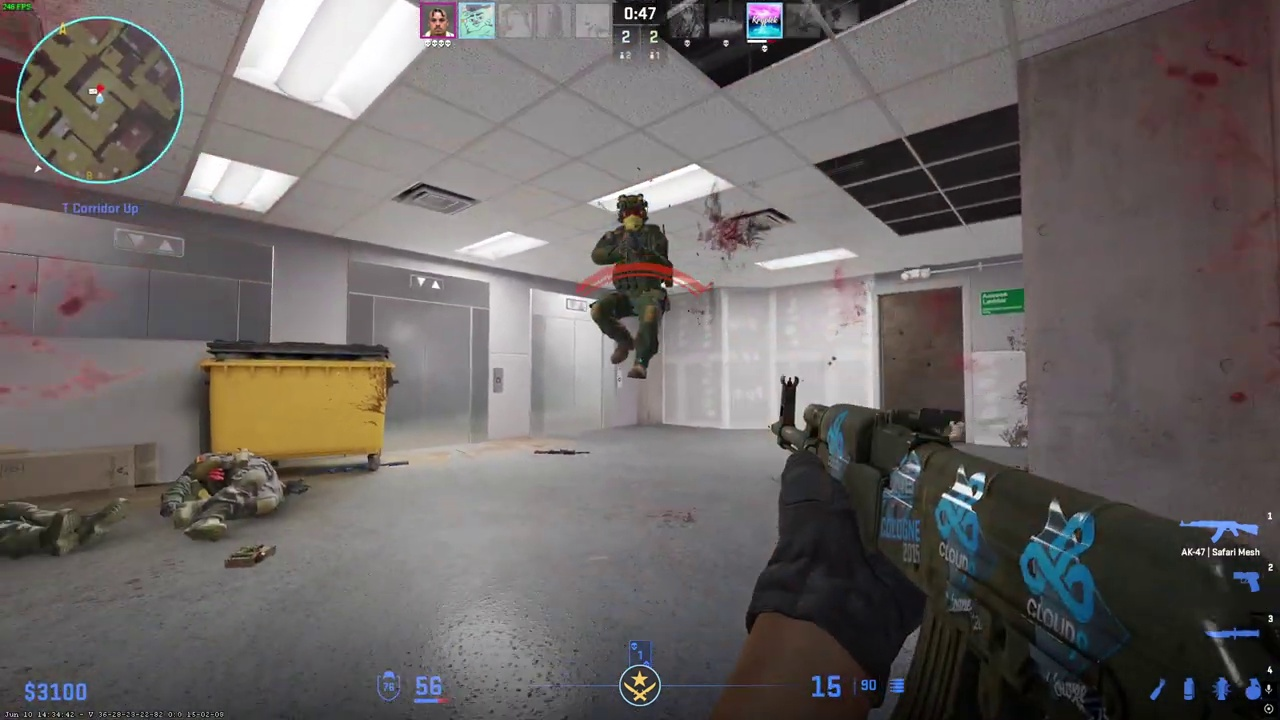CT: (591, 193, 671, 380)
